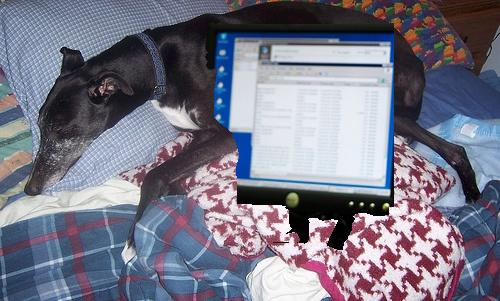tampered: (206, 23, 394, 250)
